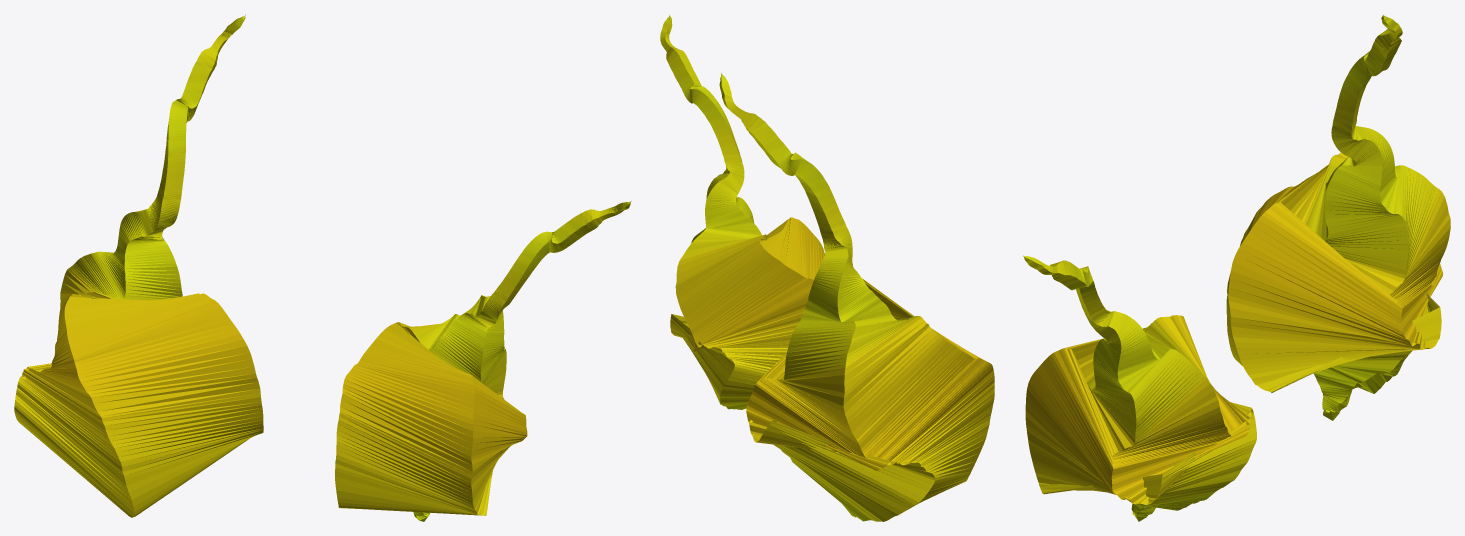
Rendered from animolines.fbx.
3 renders of one model, left to right at view 1: azimuth 30°, elevation 25°; view 2: azimuth 150°, elevation 25°; view 3: azimuth 270°, elevation 25°, orthographic. The views are drawn at different scales.
Visible parts, largest first — view 1: Sun; view 2: Sun; view 3: Sun.
Boxes of the visible parts, <box> form: Sun: <box>14,14,631,521</box>; Sun: <box>660,14,994,521</box>; Sun: <box>1023,15,1450,521</box>.
Bounding box in the file's own units: 19.1 × 18.21 × 14.89.
